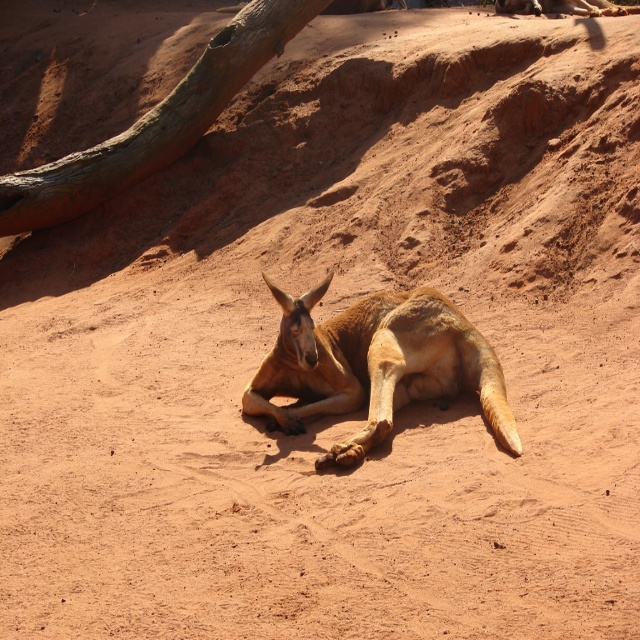Kangaroo: (241, 271, 524, 458)
